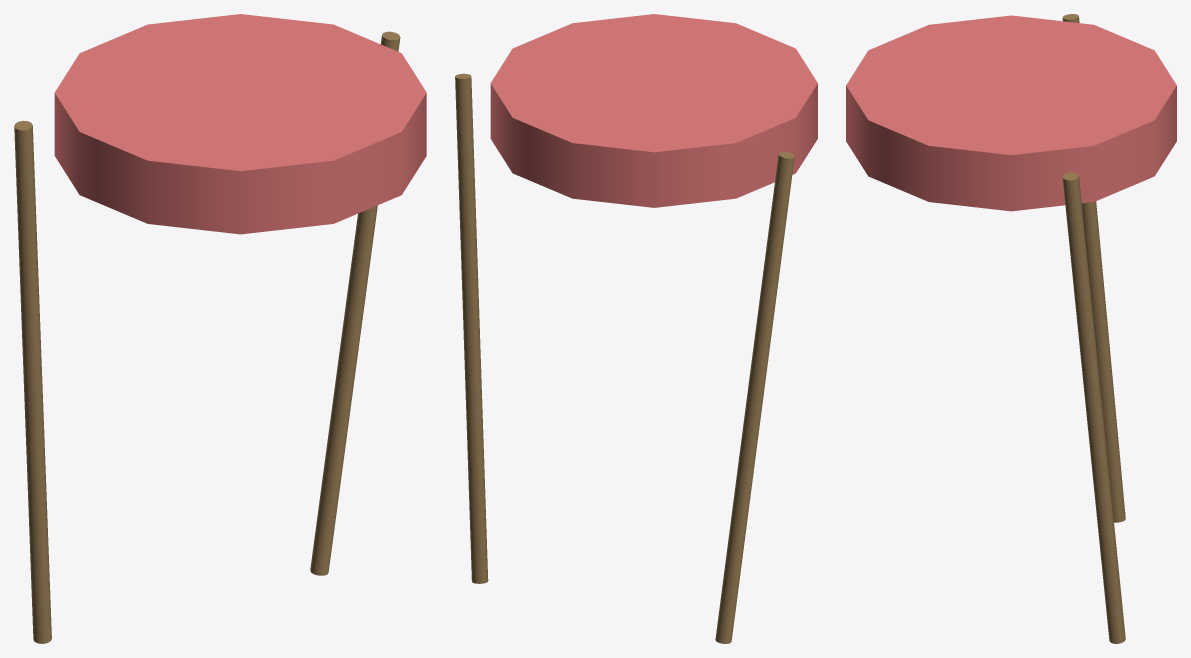
Rendered from env-med-archery.glb.
3 views of the same model, side by side, from view 1: azimuth 30°, elevation 25°; view 2: azimuth 150°, elevation 25°; view 3: azimuth 270°, elevation 25° (orthographic). The views are drawn at different scales.
Bounding box in the file's own units: 0.9527 × 1.32 × 0.8.
